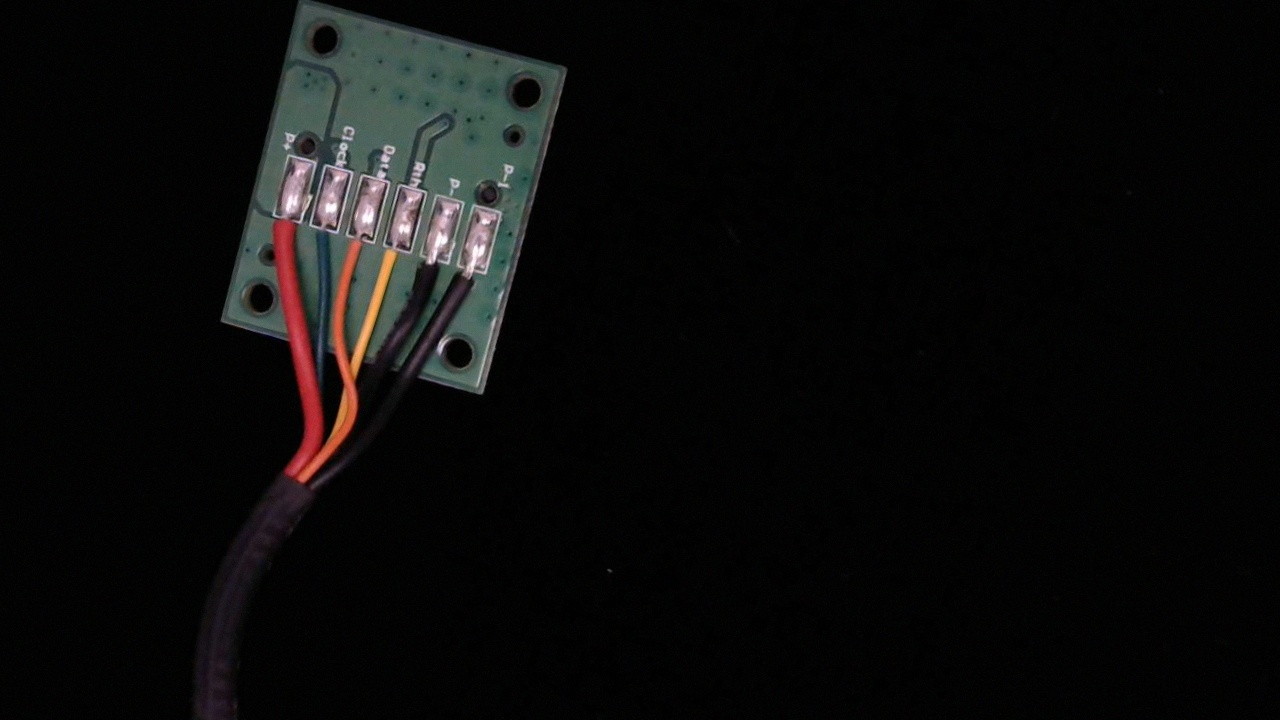Black: (403, 231, 457, 311)
Black1: (441, 244, 493, 318)
Green: (292, 203, 345, 280)
Orange: (330, 211, 382, 290)
Red: (255, 194, 308, 271)
Yellow: (362, 222, 416, 302)
